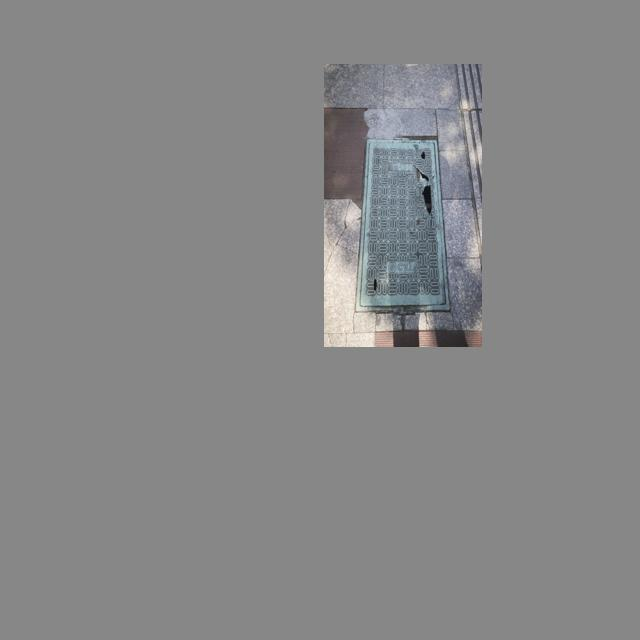broke: (357, 138, 451, 311)
